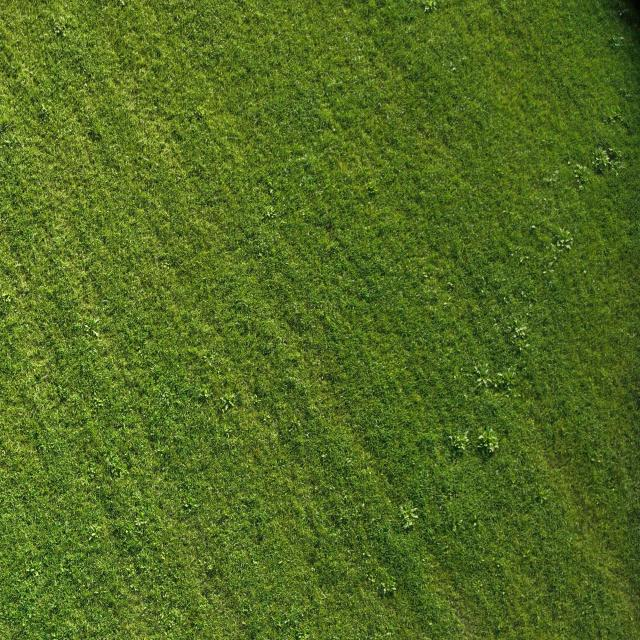rumex: (63, 118, 181, 278), (112, 517, 185, 617), (314, 471, 380, 556), (432, 63, 491, 147), (499, 439, 548, 508), (419, 267, 462, 328), (448, 430, 472, 456), (80, 316, 104, 341), (364, 570, 388, 594), (495, 364, 517, 390), (600, 111, 630, 129), (441, 54, 462, 78), (108, 461, 128, 480), (246, 514, 264, 534), (572, 162, 588, 184), (323, 74, 344, 90), (91, 392, 105, 413), (542, 170, 560, 186), (52, 18, 68, 36), (380, 582, 398, 598), (168, 128, 184, 144), (86, 128, 102, 144), (86, 524, 100, 540), (594, 160, 608, 176), (264, 204, 277, 220), (158, 390, 172, 404), (221, 398, 234, 412), (324, 240, 338, 253), (457, 432, 470, 445), (404, 506, 418, 518), (492, 322, 504, 335), (366, 178, 377, 192), (610, 39, 624, 49), (478, 367, 490, 378), (590, 453, 602, 464), (602, 155, 612, 167), (18, 284, 30, 294), (198, 394, 208, 406), (558, 424, 568, 436), (519, 255, 529, 266), (126, 567, 136, 578), (352, 53, 363, 63), (302, 161, 312, 172), (295, 629, 306, 639), (476, 377, 485, 389), (404, 519, 414, 529), (532, 612, 540, 624), (481, 446, 489, 458), (202, 389, 211, 399), (219, 398, 228, 408), (1, 290, 10, 300), (489, 442, 498, 452), (559, 242, 570, 250), (518, 329, 526, 340), (235, 394, 243, 405), (497, 620, 504, 632), (87, 465, 96, 474), (423, 4, 432, 13), (202, 356, 212, 364), (93, 396, 103, 404), (550, 170, 560, 178), (270, 432, 278, 442), (291, 419, 299, 428), (2, 137, 11, 145), (197, 108, 204, 118), (267, 179, 274, 189), (497, 372, 504, 382), (447, 280, 455, 288), (330, 125, 338, 133), (83, 324, 91, 332), (182, 501, 190, 509), (620, 88, 628, 96), (270, 247, 277, 256), (548, 265, 555, 273), (462, 393, 468, 402), (431, 1, 437, 10), (119, 0, 126, 7), (386, 629, 393, 636), (224, 426, 230, 434), (550, 240, 556, 248), (321, 452, 327, 460), (160, 552, 166, 560), (319, 310, 325, 318), (252, 394, 258, 402), (517, 345, 522, 354), (422, 271, 428, 278), (136, 520, 143, 526), (362, 225, 368, 232), (530, 223, 536, 230), (504, 296, 510, 303), (524, 342, 530, 349), (34, 570, 40, 577), (528, 303, 534, 310), (427, 620, 434, 626), (448, 435, 454, 442), (453, 374, 458, 382), (346, 458, 352, 464), (343, 35, 349, 41), (520, 290, 526, 296), (566, 160, 572, 166), (556, 241, 562, 247), (582, 268, 587, 275), (552, 256, 557, 263), (511, 478, 516, 485), (378, 103, 383, 110), (388, 5, 393, 12), (581, 610, 586, 617), (269, 188, 273, 196), (473, 514, 478, 520), (278, 559, 283, 565), (387, 114, 392, 120), (333, 16, 338, 22), (619, 11, 624, 17), (453, 524, 457, 531), (29, 449, 34, 454), (502, 210, 508, 214), (473, 522, 477, 528), (362, 502, 366, 508), (542, 198, 547, 202)
